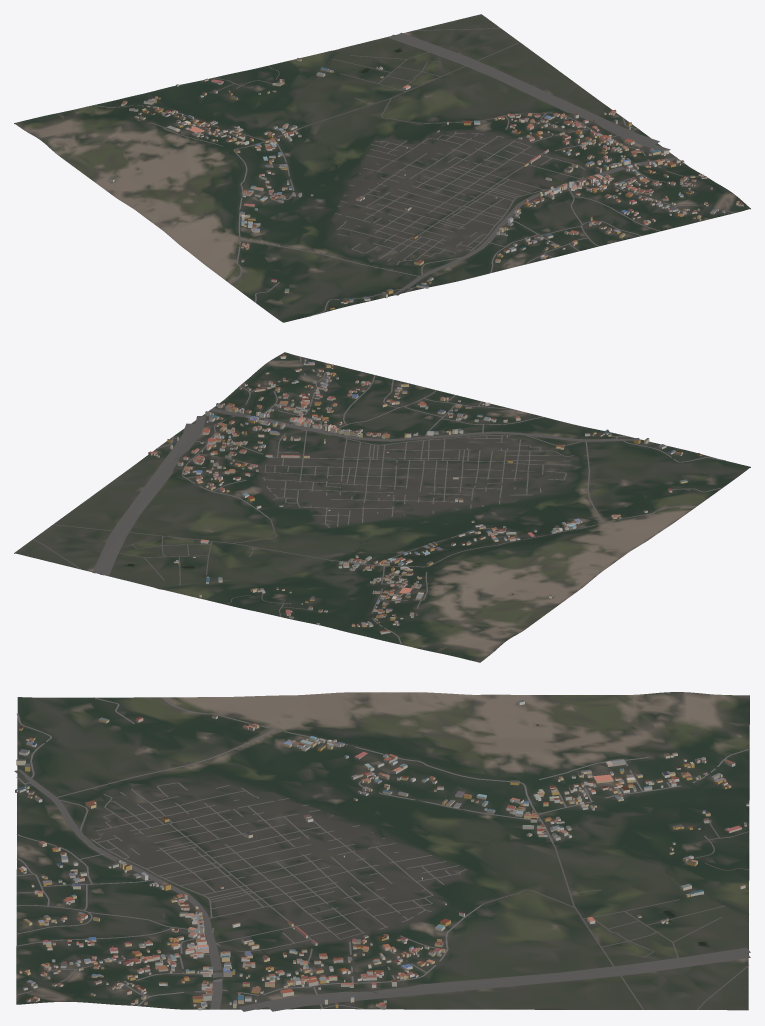
The picture shows the model from 3 angles, top to bottom: view 1: azimuth 30°, elevation 25°; view 2: azimuth 150°, elevation 25°; view 3: azimuth 270°, elevation 25°; orthographic projection. The views are drawn at different scales.
Visible parts, largest first — view 1: ground, roads, buildings; view 2: ground, roads, buildings; view 3: ground, roads, buildings.
Boxes of the visible parts, box(x1,y1,x2,y2) form: ground: box(14, 14, 750, 322); roads: box(93, 27, 734, 316); buildings: box(109, 58, 743, 309); ground: box(14, 352, 750, 662); roads: box(33, 356, 725, 644); buildings: box(148, 353, 701, 634); ground: box(16, 692, 749, 1010); roads: box(14, 697, 750, 1011); buildings: box(15, 700, 749, 1010).
Size of the model in its own units: 1412 by 29.85 by 1411.
